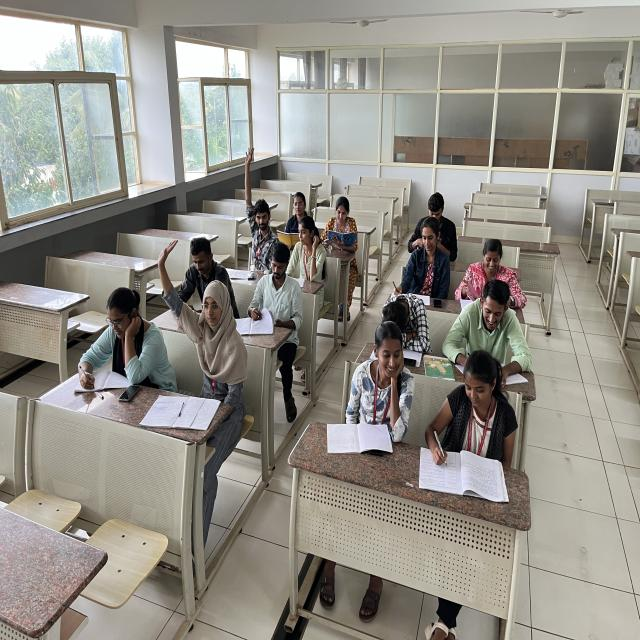Hand Rising: (143, 235, 256, 417), (232, 142, 282, 256)
Reading: (442, 283, 532, 380), (456, 231, 533, 311), (245, 237, 304, 338), (318, 198, 366, 252)
Sleeping: (372, 286, 438, 354)
Writing: (416, 354, 512, 492), (69, 282, 169, 387), (388, 220, 443, 297), (280, 220, 331, 292)
